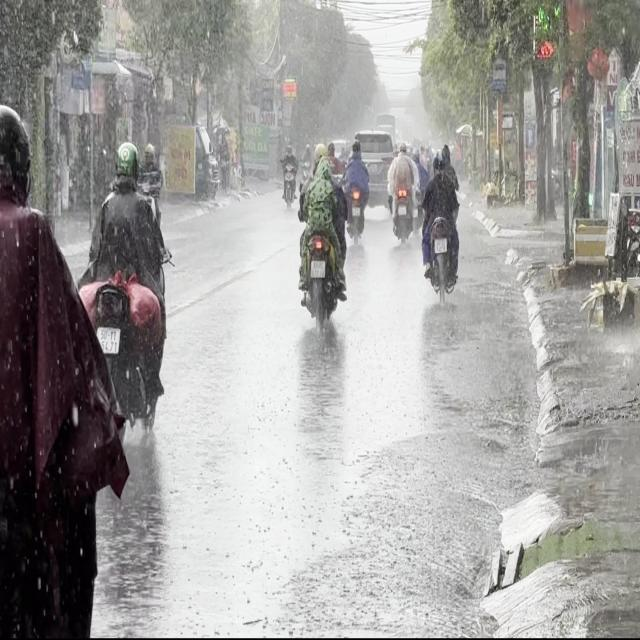helmet: (0, 102, 31, 202), (114, 140, 139, 187), (432, 146, 448, 177), (313, 140, 327, 165)
licenseplate: (0, 96, 128, 638), (78, 134, 180, 434), (293, 137, 348, 332), (420, 139, 462, 300)
nohelmet: (97, 327, 120, 352), (310, 260, 325, 276), (434, 237, 447, 252)
